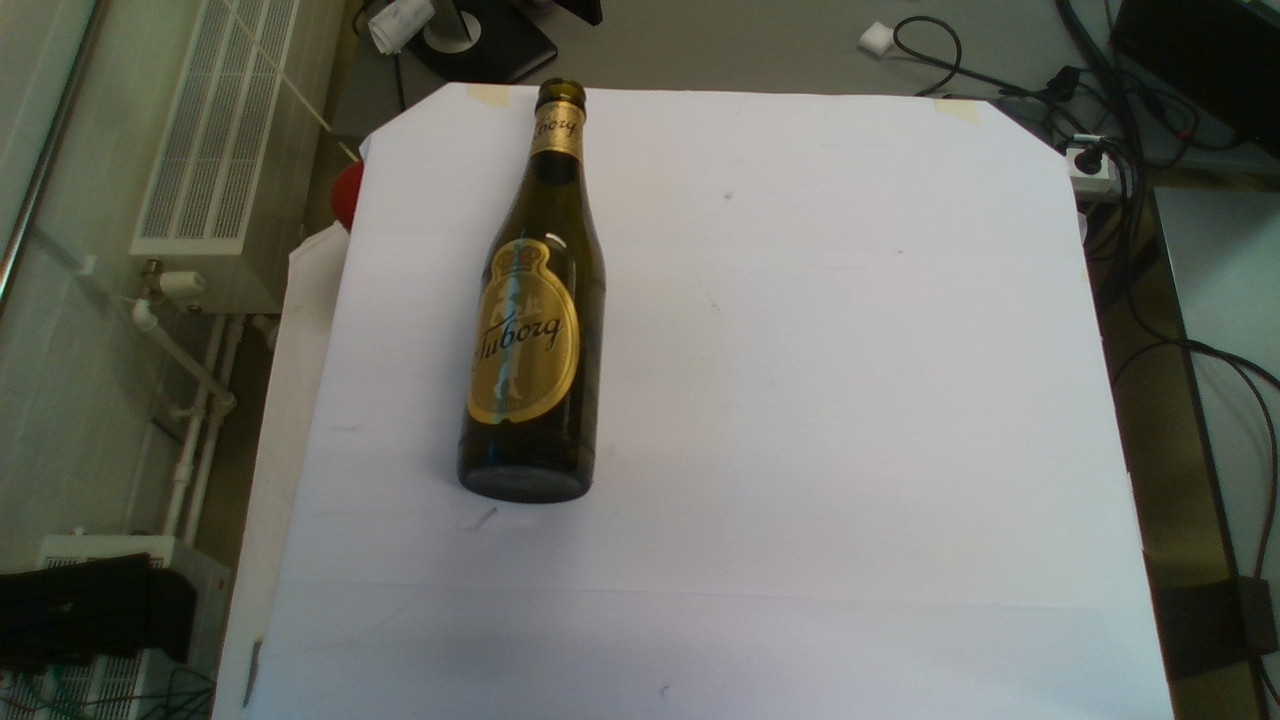bottle: (451, 77, 608, 505)
